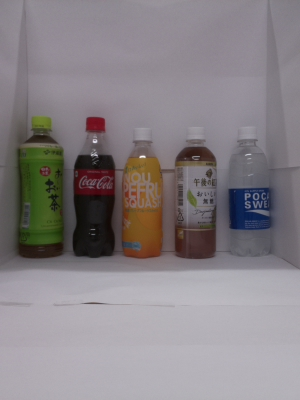おーいお茶: (12, 110, 68, 265)
グレープフルーツスカッシュ: (117, 119, 167, 265)
コーラ: (69, 106, 119, 263)
ポカリスエット: (222, 118, 281, 262)
午後の紅茶: (169, 122, 222, 264)
